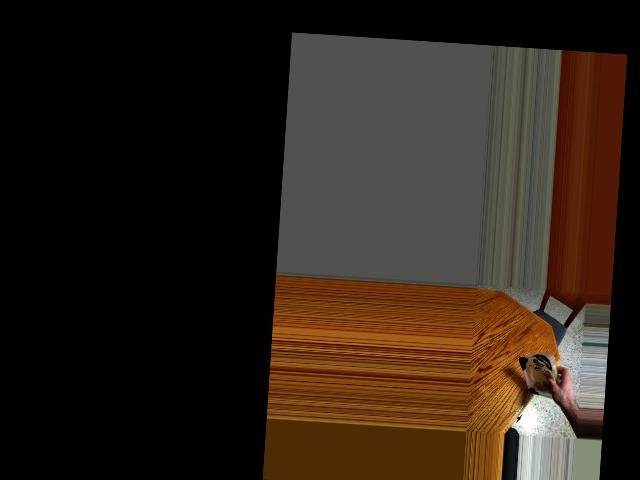cheese: (519, 352, 558, 403)
